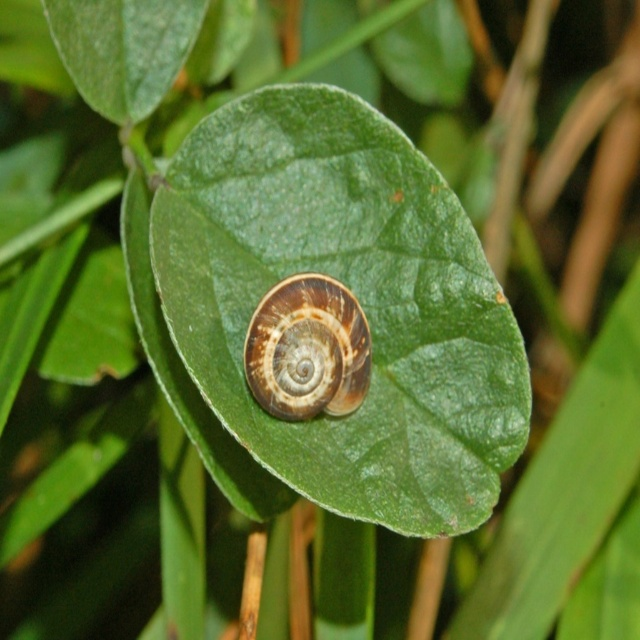Snail: (249, 274, 375, 430)
